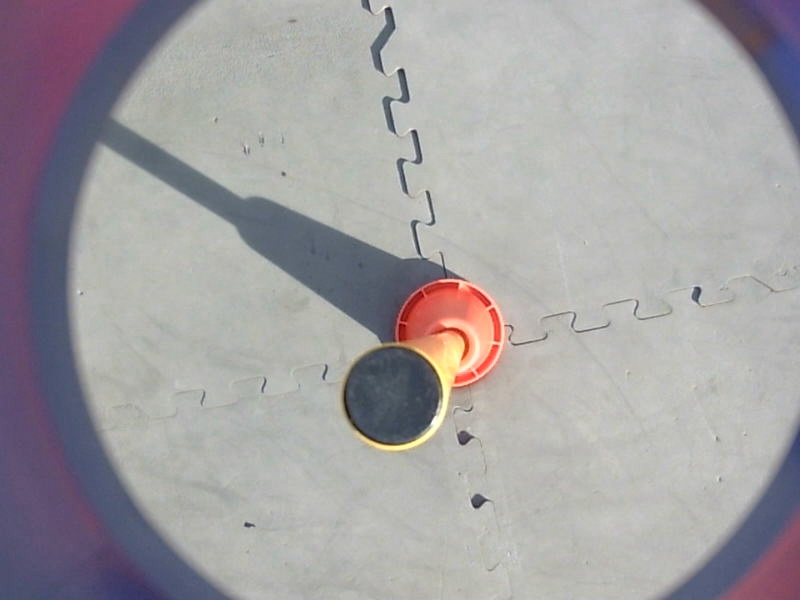tip: (336, 337, 452, 457)
